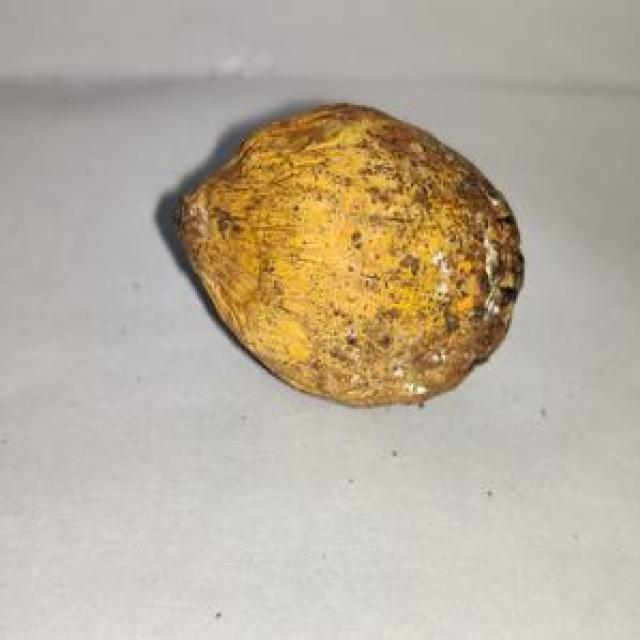damaged: (171, 105, 524, 409)
